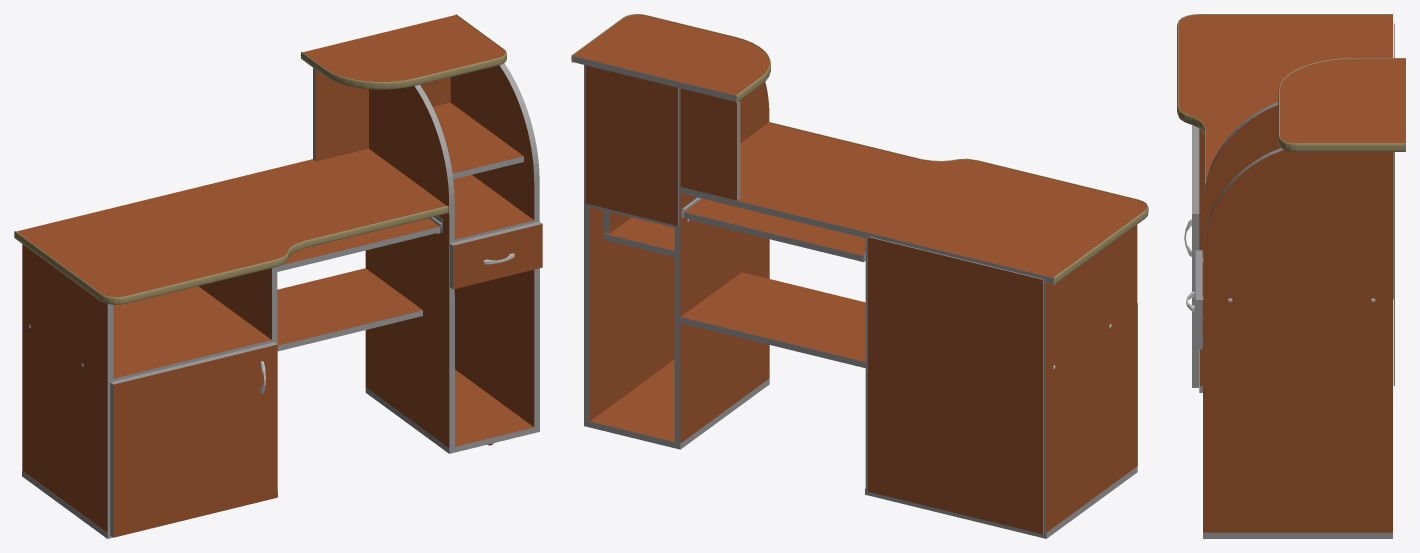
The model's file is desk.obj.
3 views of the same model, side by side, from view 1: azimuth 30°, elevation 25°; view 2: azimuth 150°, elevation 25°; view 3: azimuth 270°, elevation 25° (orthographic). The views are drawn at different scales.
Parts seen in each view (by area): view 1: Desk_desk_main, Contour; view 2: Desk_desk_main, Contour; view 3: Desk_desk_main, Contour.
Part boxes in pixels (x1=…): Desk_desk_main: x1=16, y1=15, x2=542, y2=538; Contour: x1=14, y1=14, x2=506, y2=304; Desk_desk_main: x1=572, y1=15, x2=1146, y2=538; Contour: x1=571, y1=14, x2=1148, y2=284; Desk_desk_main: x1=1178, y1=15, x2=1405, y2=538; Contour: x1=1177, y1=14, x2=1405, y2=190.
Bounding box in the file's own units: 139 × 105 × 54.28.
